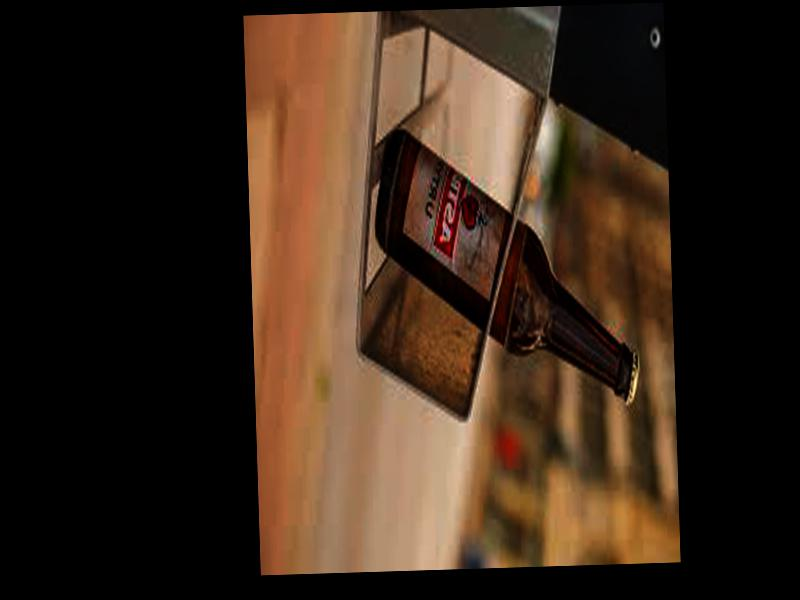Beer: (371, 119, 641, 415)
